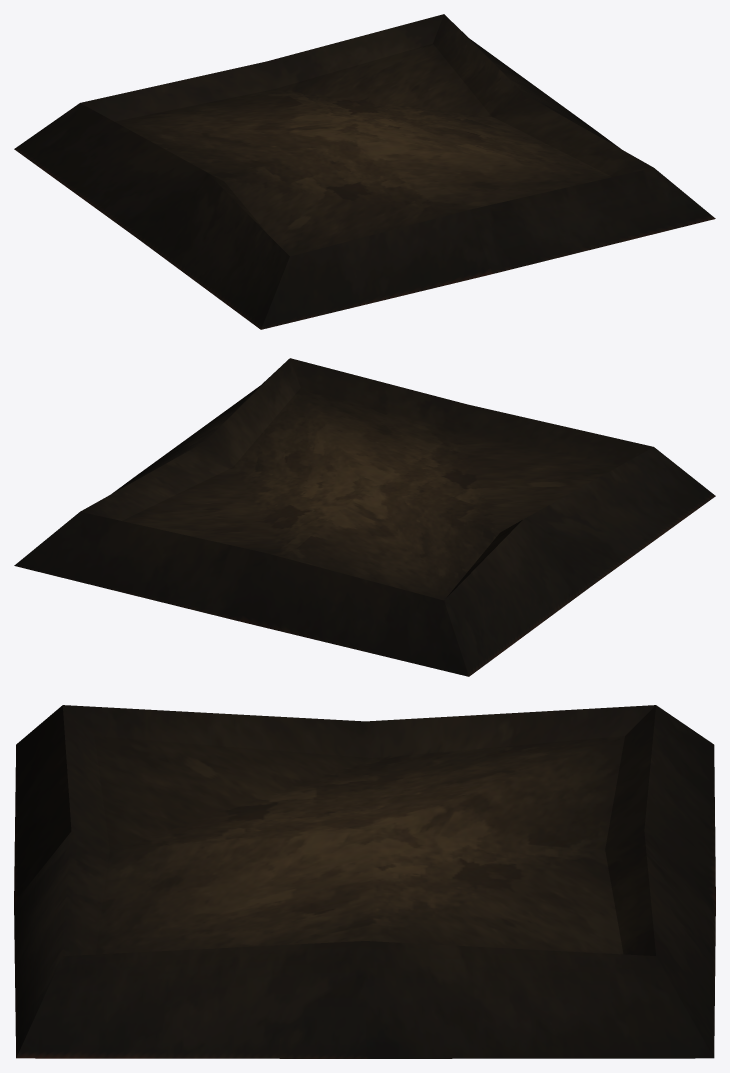
Rendered from FlowerBed_Square.fbx.
3 renders of one model, top to bottom at view 1: azimuth 30°, elevation 25°; view 2: azimuth 150°, elevation 25°; view 3: azimuth 270°, elevation 25°, orthographic. The views are drawn at different scales.
Visible parts, largest first — view 1: pCube3; view 2: pCube3; view 3: pCube3.
Boxes of the visible parts, bbox=[...] form: pCube3: bbox=[14, 14, 715, 329]; pCube3: bbox=[14, 358, 715, 676]; pCube3: bbox=[14, 705, 715, 1058].
Bounding box in the file's own units: 0.96 × 0.101 × 0.906.
